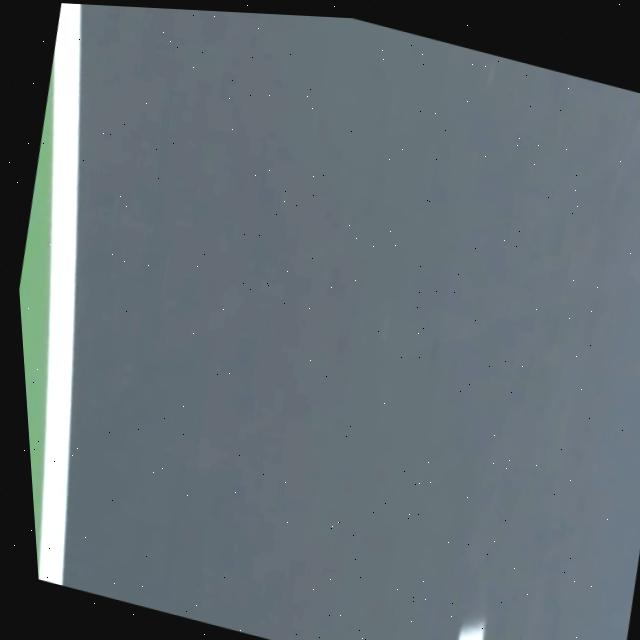center: (459, 621, 483, 640)
right: (38, 3, 81, 585)
